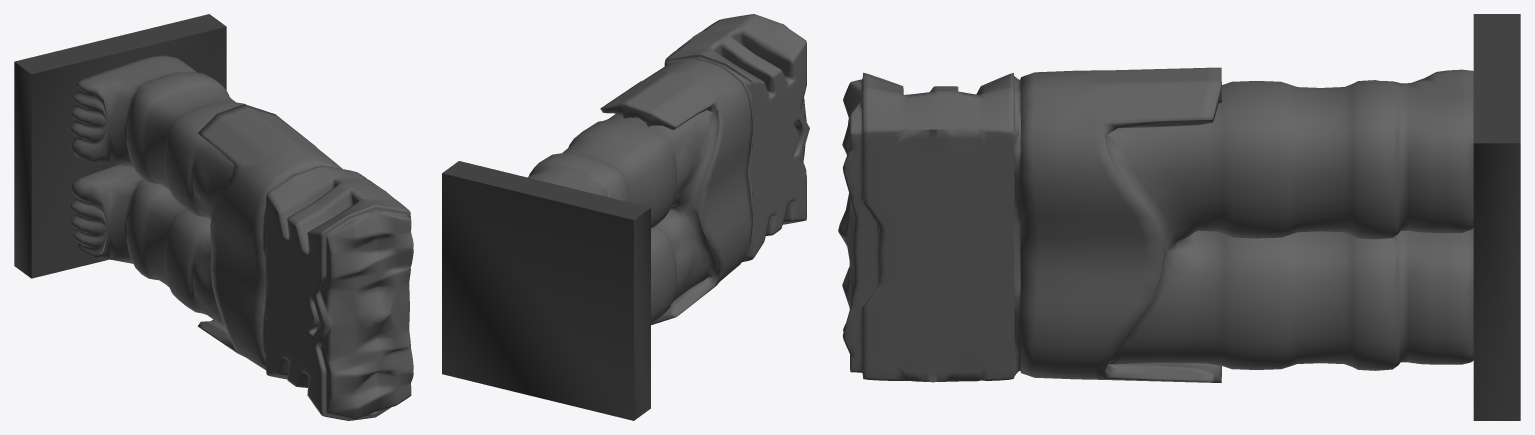
The model's file is aztec_statue.fbx.
3 renders of one model, left to right at view 1: azimuth 30°, elevation 25°; view 2: azimuth 150°, elevation 25°; view 3: azimuth 270°, elevation 25°, orthographic. The views are drawn at different scales.
Parts seen in each view (by area): view 1: Plane01_None, Box01_None; view 2: Plane01_None, Box01_None; view 3: Plane01_None, Box01_None.
Part boxes in pixels (<box>): Plane01_None: <box>70,55,413,420</box>; Box01_None: <box>14,14,226,278</box>; Plane01_None: <box>527,14,809,324</box>; Box01_None: <box>442,161,650,420</box>; Plane01_None: <box>838,67,1473,382</box>; Box01_None: <box>1473,14,1520,420</box>.
Size of the model in its own units: 58.3 by 63.34 by 130.
Materials: 2 (2 with a texture image).
